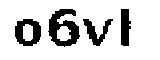6: (46, 5, 81, 52)
l: (116, 5, 140, 54)
o: (13, 16, 42, 48)
v: (82, 17, 112, 46)
